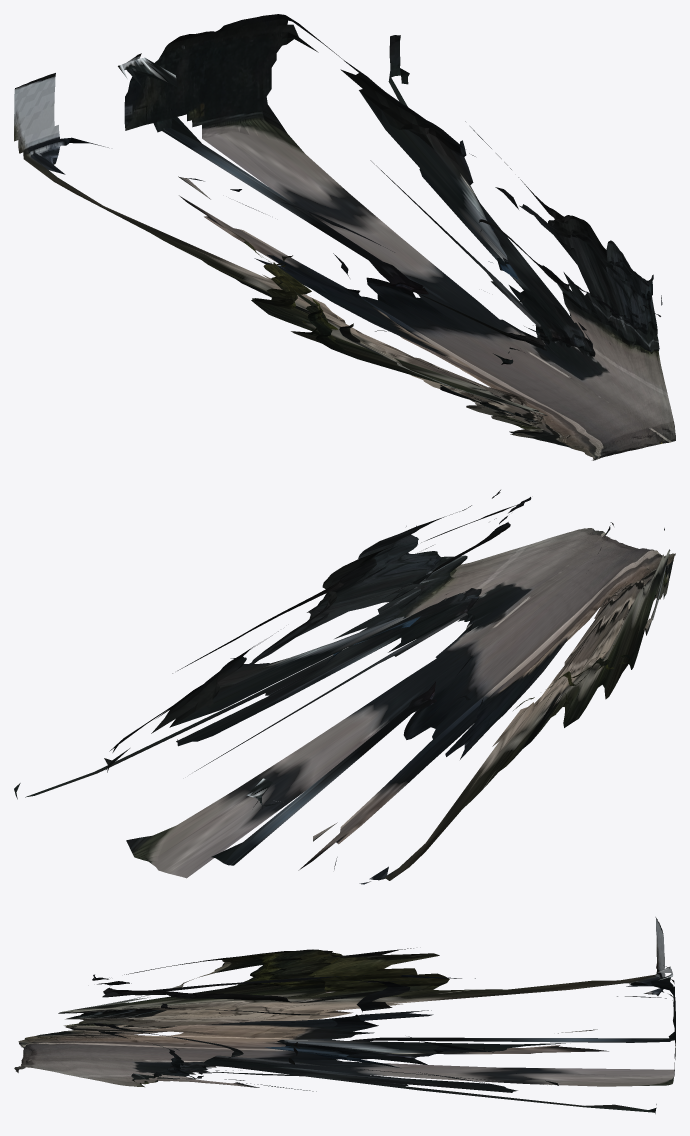
The picture shows the model from 3 angles, top to bottom: view 1: azimuth 30°, elevation 25°; view 2: azimuth 150°, elevation 25°; view 3: azimuth 270°, elevation 25°; orthographic projection. The views are drawn at different scales.
Parts seen in each view (by area): view 1: defaultobject; view 2: defaultobject; view 3: defaultobject.
Part boxes in pixels (x1,y1,x2,y2): defaultobject: (14, 14, 675, 460); defaultobject: (14, 490, 675, 884); defaultobject: (14, 917, 675, 1113).
Bounding box in the file's own units: 22.58 × 6.79 × 44.73.
Materials: 1 (1 with a texture image).
